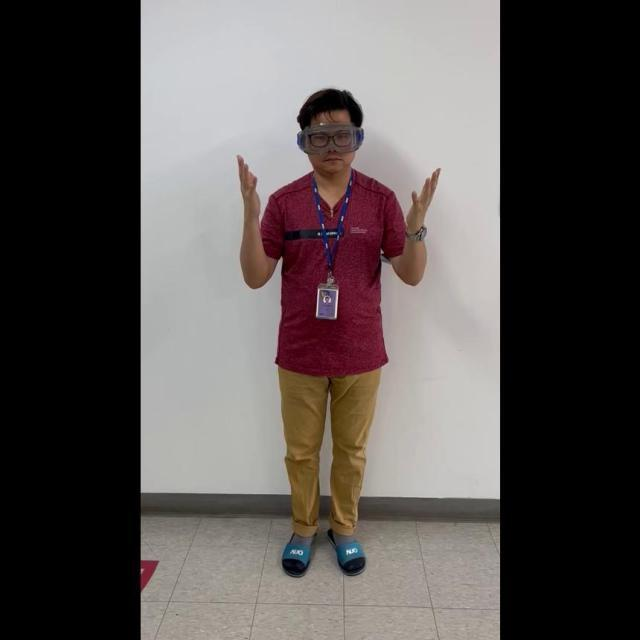bare_hand: (402, 161, 441, 241), (234, 148, 260, 220)
